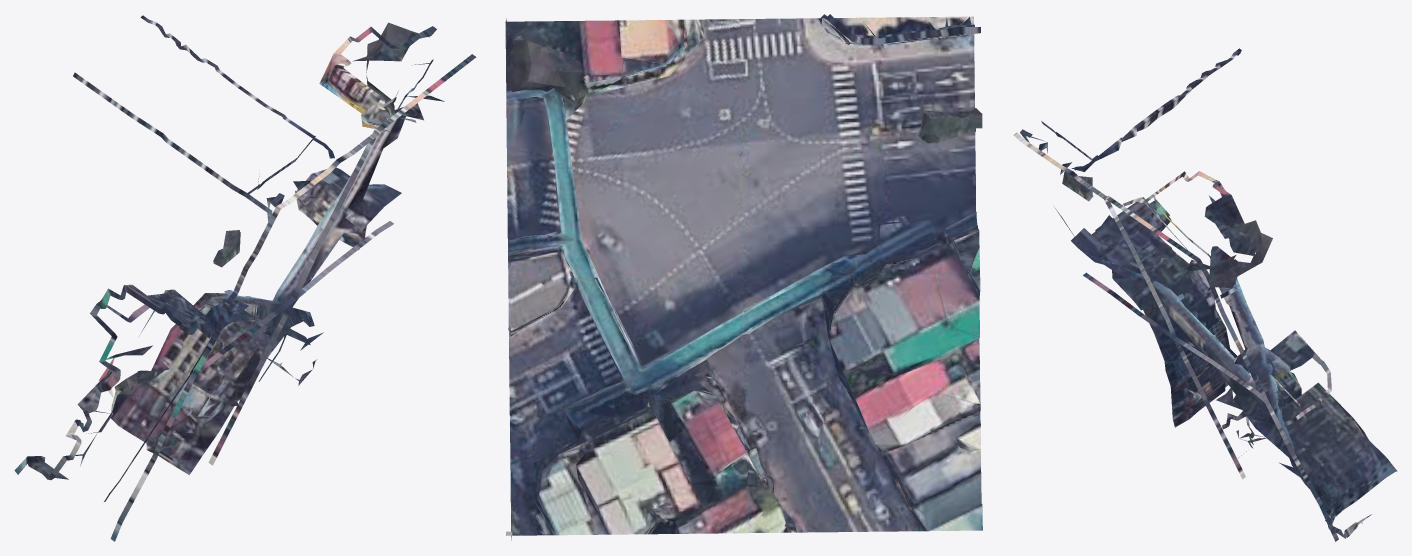
The picture shows the model from 3 angles, left to right: view 1: azimuth 30°, elevation 25°; view 2: azimuth 150°, elevation 25°; view 3: azimuth 270°, elevation 25°; orthographic projection. The views are drawn at different scales.
Size of the model in its own units: 85.89 by 87.94 by 75.95.
2 materials, 2 textured.
